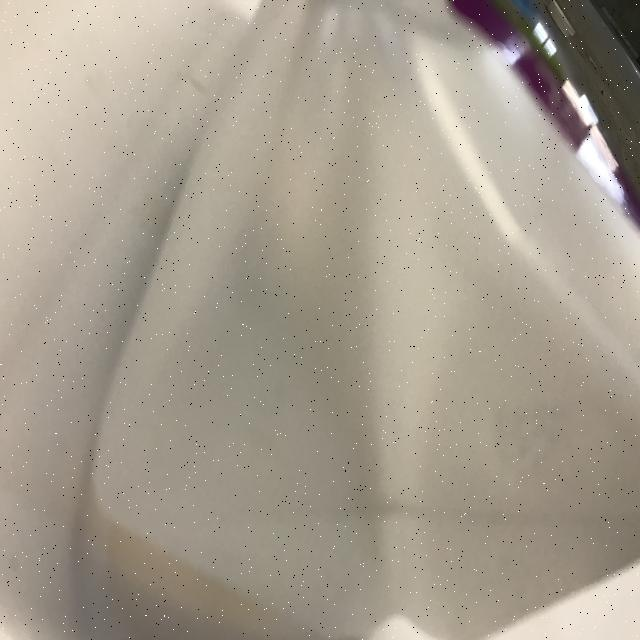plastic: (3, 1, 638, 638)
